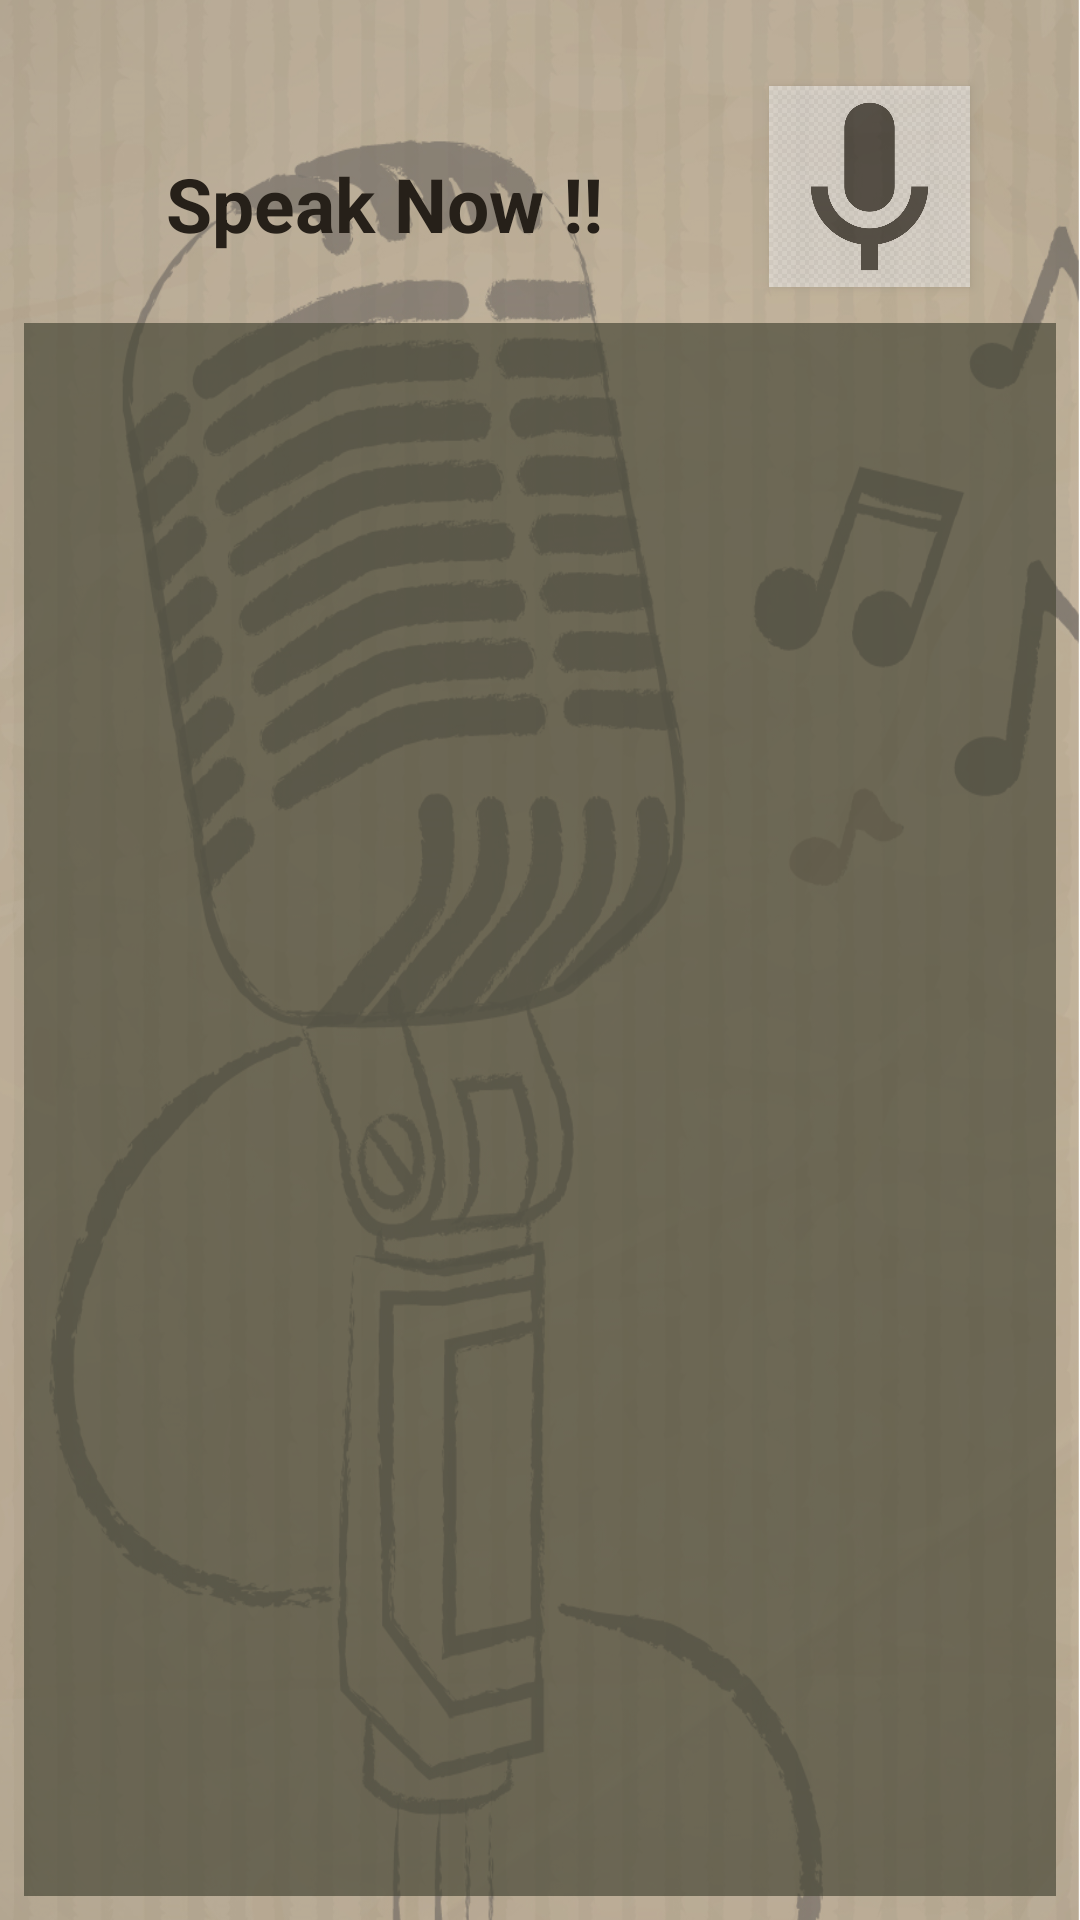

Screen size 1080px×1920px. Icon name, then its center in pixels as point (x, y):
mic: point (869, 186)
